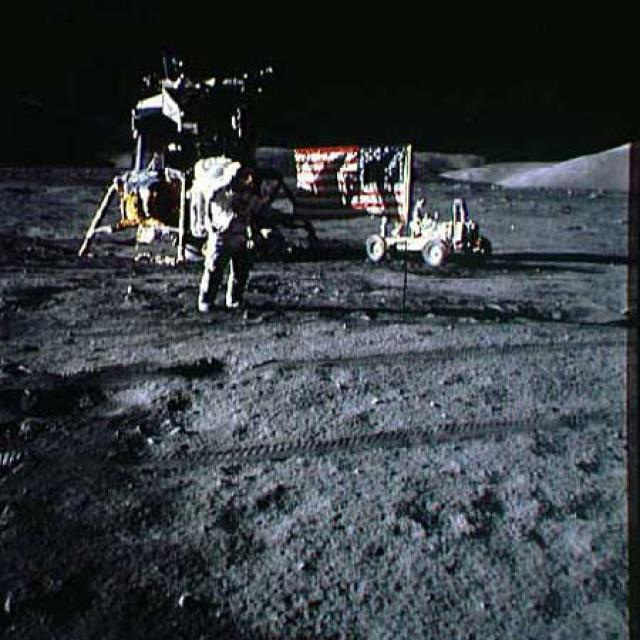artifact: (74, 46, 493, 276)
crater: (0, 371, 180, 424)
